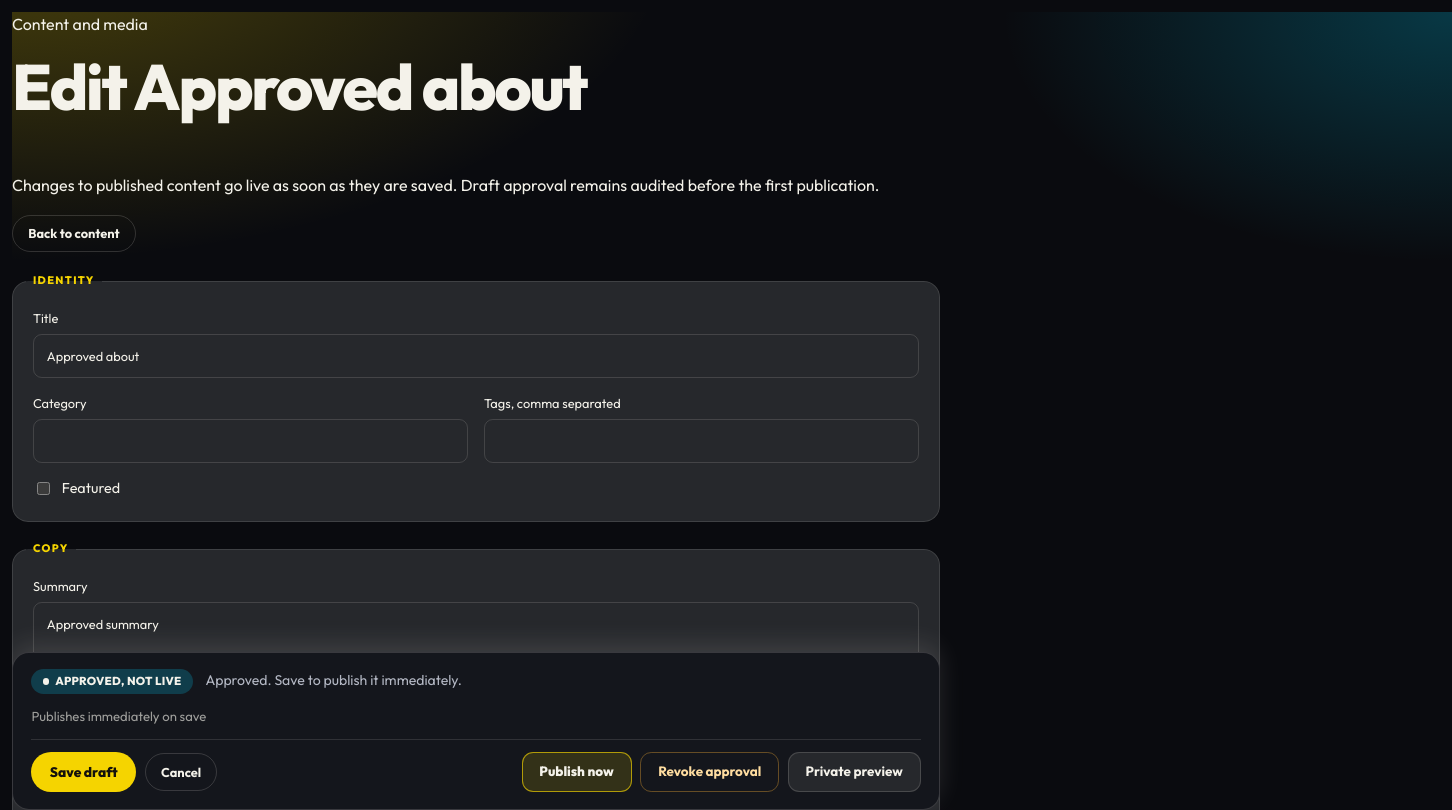
Scenario: publishes without scheduling and supports approval revocation and unpublishing
Click the button "Revoke approval" at (710, 772), box [640, 752, 779, 792]
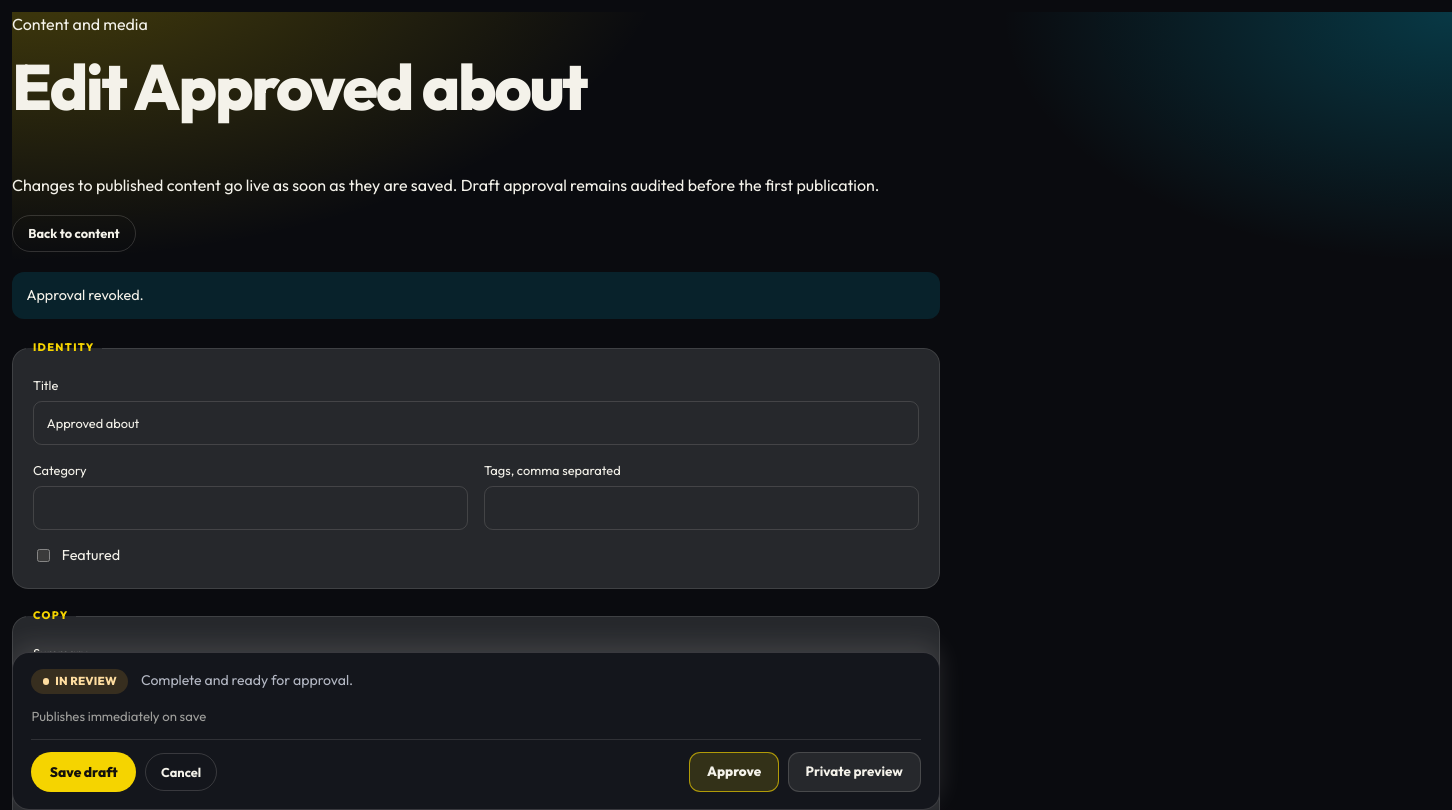
Now the text "Approval revoked." is shown, box [12, 272, 940, 319]
Click the button "Approve" at (734, 772), box [689, 752, 779, 792]
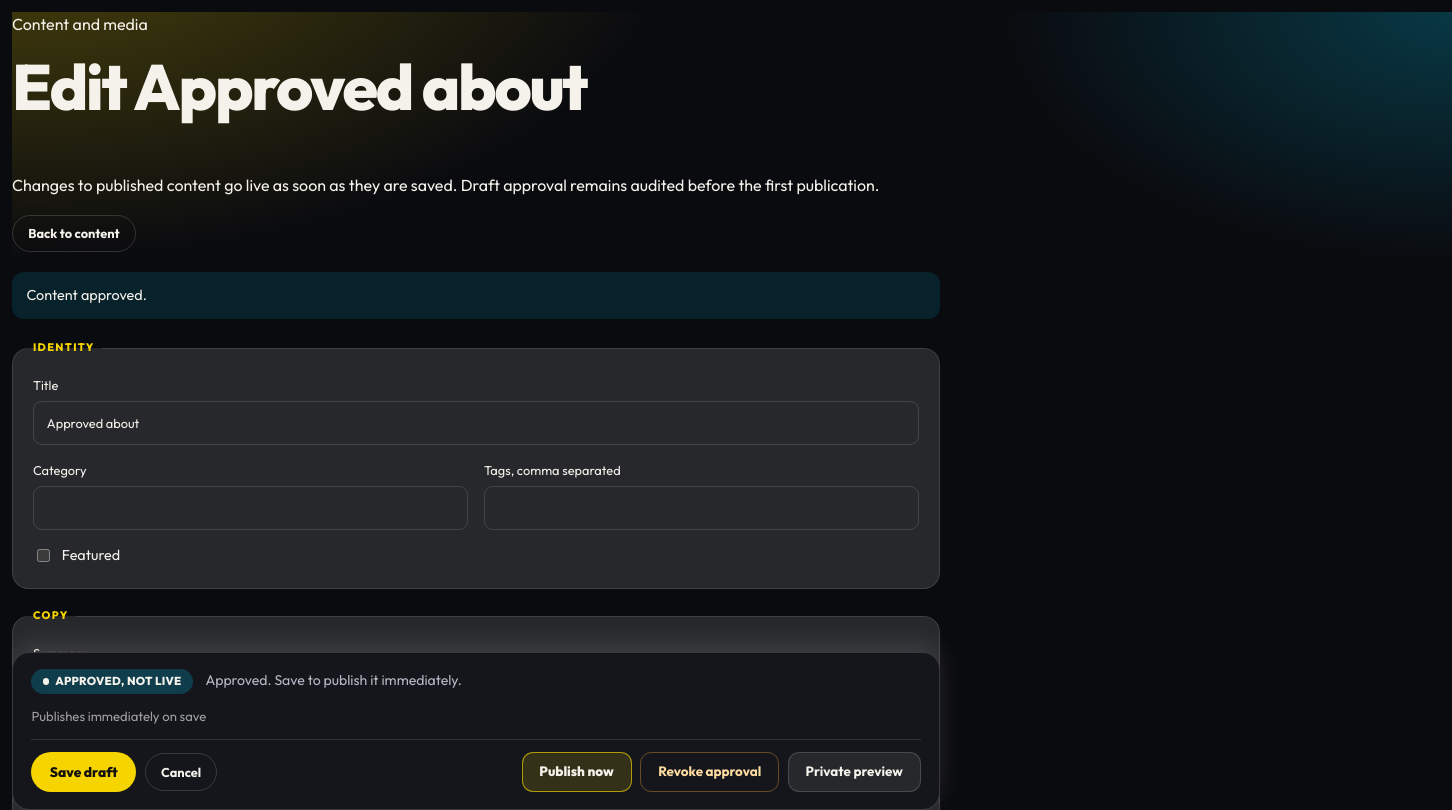
Now the text "Content approved." is shown, box [12, 272, 940, 319]
Click the button "Publish now" at (576, 772), box [522, 752, 632, 792]
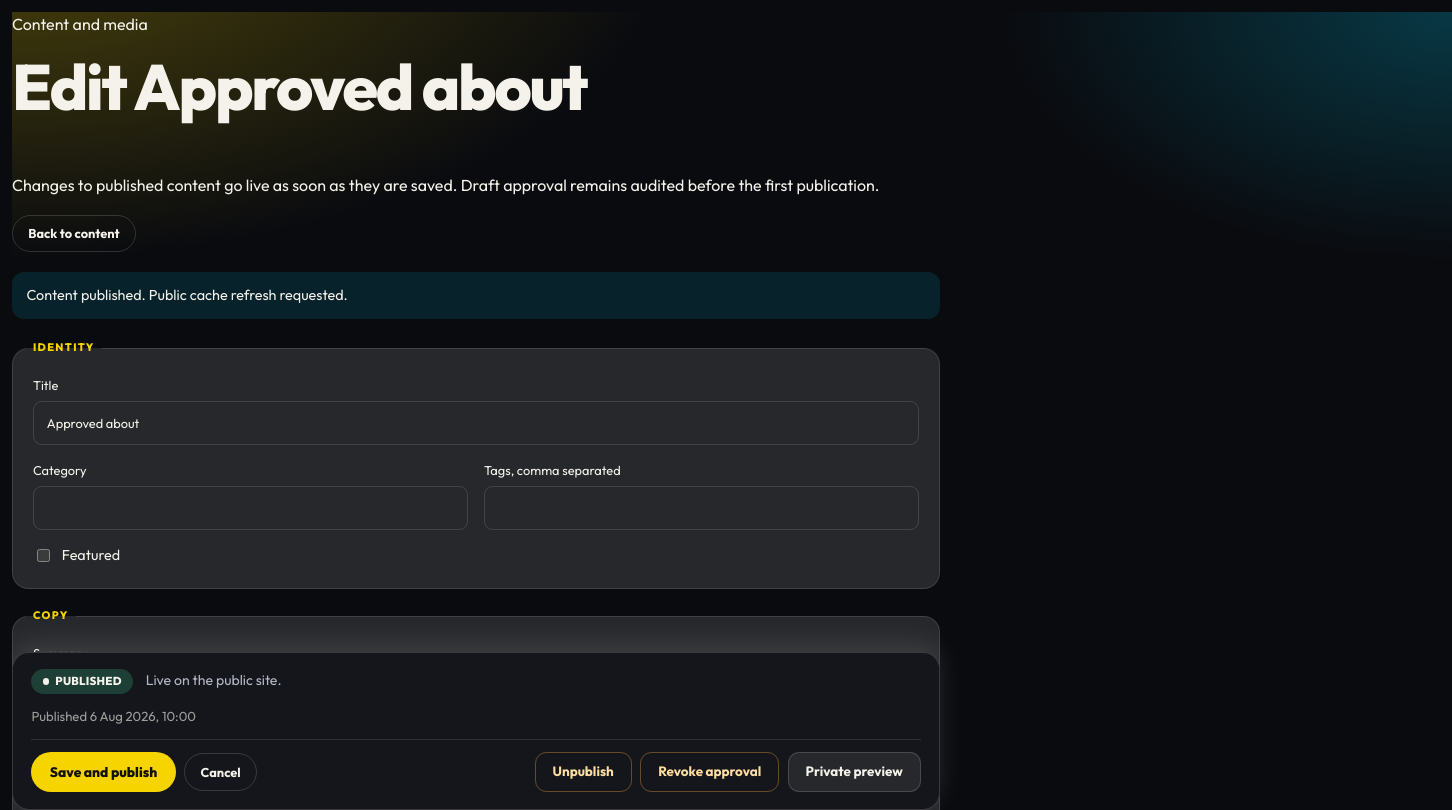
Now the text "Content published. Public cache refresh requested." is shown, box [12, 272, 940, 319]
Now the text "Published" is shown, box [31, 669, 133, 694]
Click the button "Unpublish" at (583, 772), box [535, 752, 632, 792]
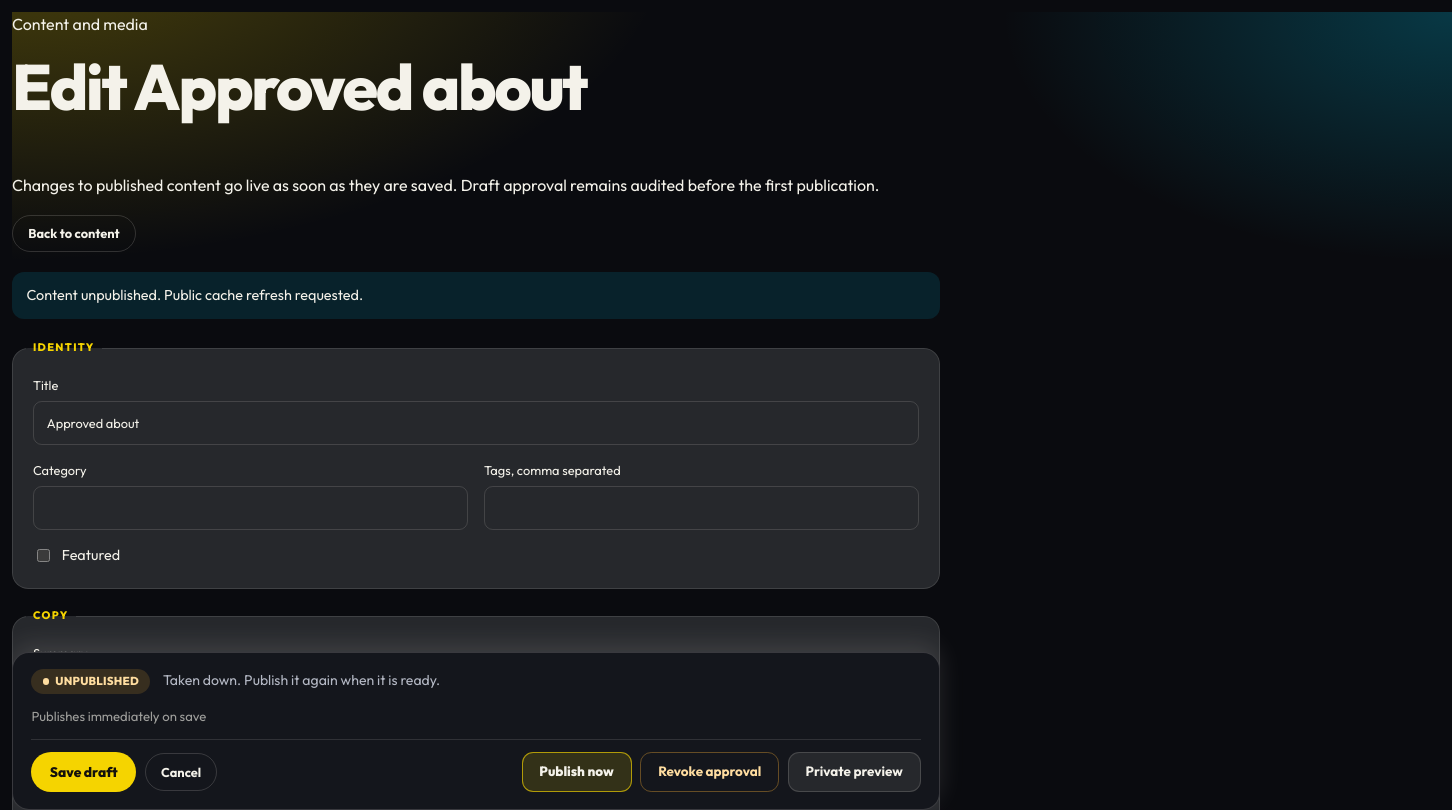
Now the text "Content unpublished. Public cache refresh requested." is shown, box [12, 272, 940, 319]
